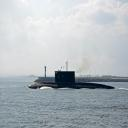submarine: (29, 72, 120, 87)
